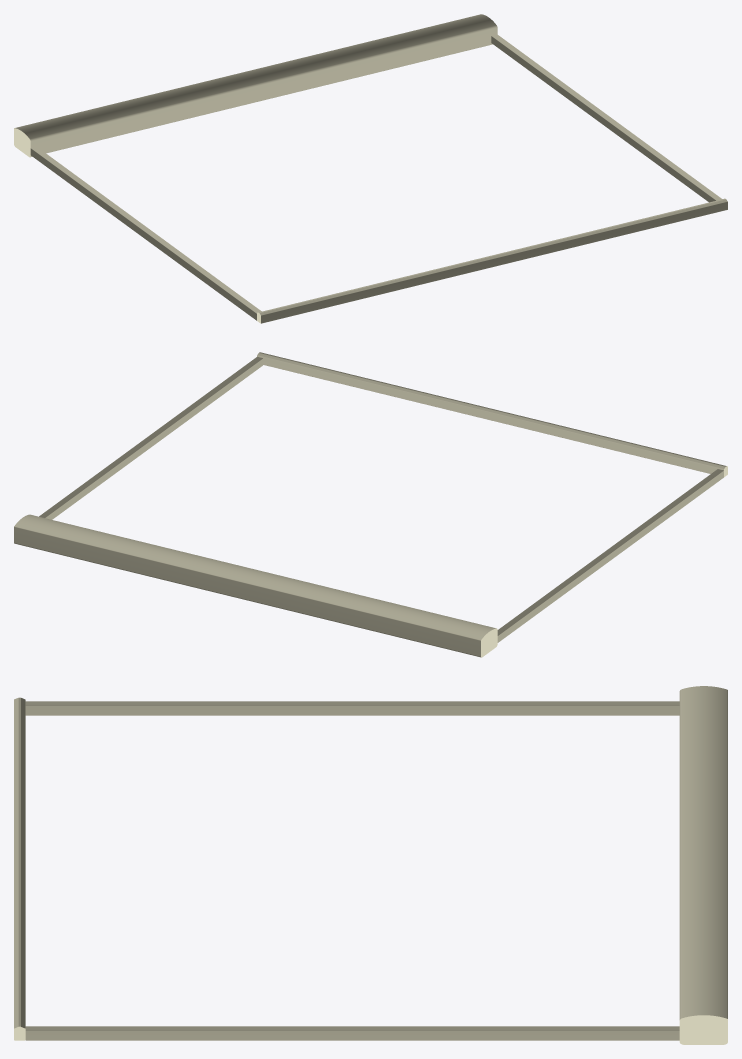
The model's file is 1013_zipper automatic curtain system 3.fbx.
3 renders of one model, top to bottom at view 1: azimuth 30°, elevation 25°; view 2: azimuth 150°, elevation 25°; view 3: azimuth 270°, elevation 25°, orthographic. The views are drawn at different scales.
Parts seen in each view (by area): view 1: imagetostl_mesh2, imagetostl_mesh0, imagetostl_mesh3, imagetostl_mesh1; view 2: imagetostl_mesh2, imagetostl_mesh0, imagetostl_mesh3, imagetostl_mesh1; view 3: imagetostl_mesh2, imagetostl_mesh1, imagetostl_mesh3, imagetostl_mesh0.
Boxes of the visible parts, x1,y1,x2,y2 form: imagetostl_mesh2: (14, 14, 497, 157); imagetostl_mesh0: (257, 198, 727, 323); imagetostl_mesh3: (30, 146, 261, 320); imagetostl_mesh1: (491, 34, 722, 202); imagetostl_mesh2: (14, 514, 497, 657); imagetostl_mesh0: (257, 352, 727, 477); imagetostl_mesh3: (497, 469, 723, 642); imagetostl_mesh1: (39, 356, 263, 519); imagetostl_mesh2: (679, 686, 727, 1044); imagetostl_mesh1: (25, 1026, 679, 1040); imagetostl_mesh3: (25, 701, 679, 715); imagetostl_mesh0: (14, 697, 25, 1040).
Bounding box in the file's own units: 240 × 10.1 × 220.
